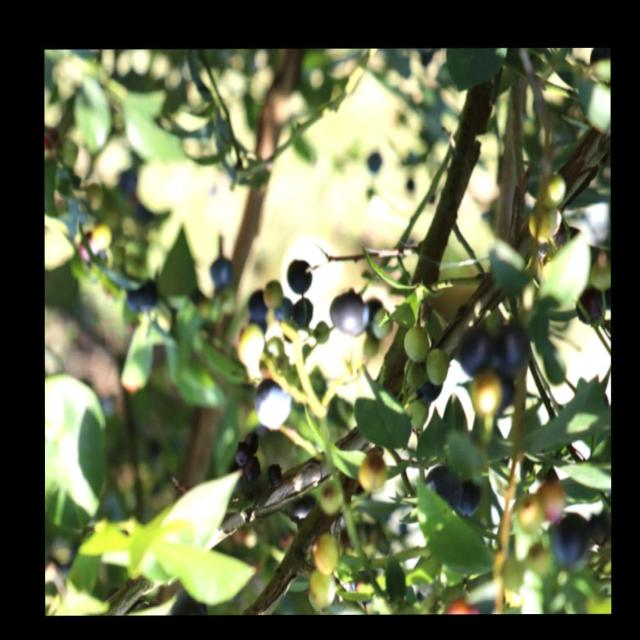blueberry: (548, 508, 586, 568), (249, 373, 290, 428), (326, 287, 364, 337), (422, 466, 458, 513), (456, 329, 492, 375), (496, 329, 524, 371), (285, 252, 313, 292), (486, 375, 514, 412), (456, 478, 481, 518), (204, 255, 231, 291), (261, 458, 284, 489), (249, 286, 271, 318), (293, 294, 314, 326), (274, 298, 294, 326), (240, 430, 261, 456), (243, 457, 261, 483), (232, 438, 248, 465)
blueberry-unripe: (424, 346, 452, 387), (359, 452, 387, 492), (304, 569, 333, 607), (529, 207, 558, 241), (538, 178, 566, 209), (311, 536, 336, 570), (403, 332, 431, 361), (400, 356, 424, 388), (320, 482, 342, 516), (405, 400, 426, 433)
